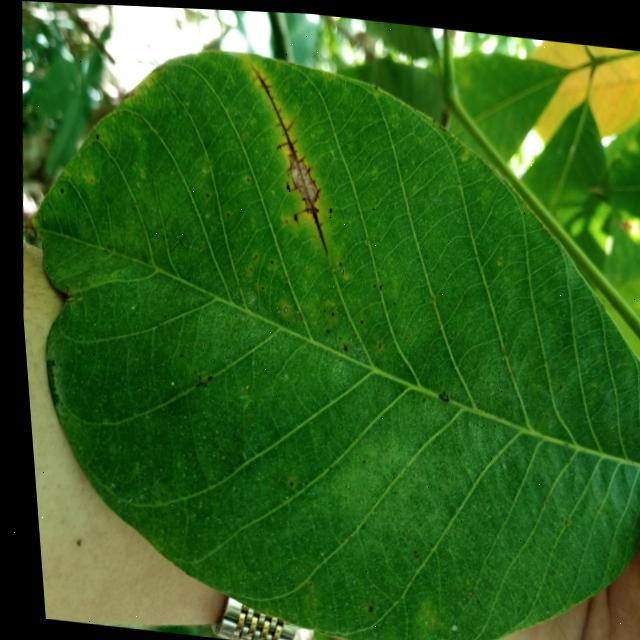Colletotrichum: (325, 203, 329, 210), (279, 303, 283, 309), (338, 342, 342, 347), (326, 308, 330, 312), (266, 257, 269, 260), (356, 316, 358, 320)
Corynespora: (240, 64, 337, 253)
